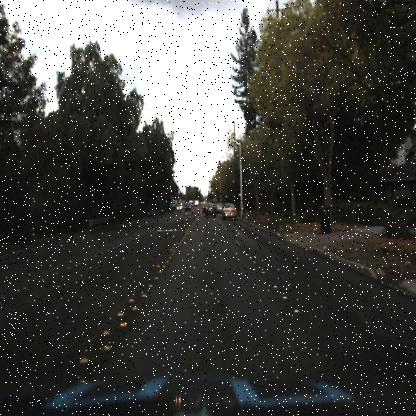car: (221, 198, 238, 220), (203, 199, 217, 219), (174, 201, 184, 217)
